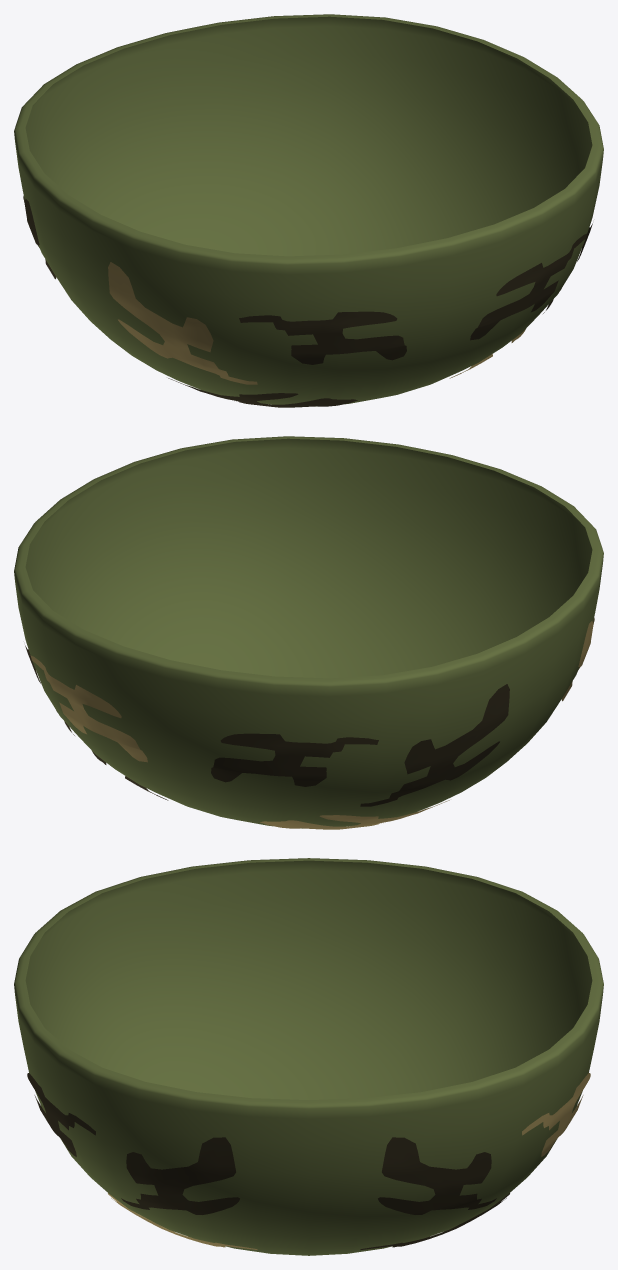
The picture shows the model from 3 angles, top to bottom: view 1: azimuth 30°, elevation 25°; view 2: azimuth 150°, elevation 25°; view 3: azimuth 270°, elevation 25°; orthographic projection. The views are drawn at different scales.
Visible parts, largest first — view 1: army_pants; view 2: army_pants; view 3: army_pants.
Part boxes in pixels (bbox=[...]): army_pants: bbox=[14, 14, 603, 407]; army_pants: bbox=[14, 436, 603, 829]; army_pants: bbox=[14, 858, 603, 1255].
Bounding box in the file's own units: 1.35 × 0.6028 × 1.35.
